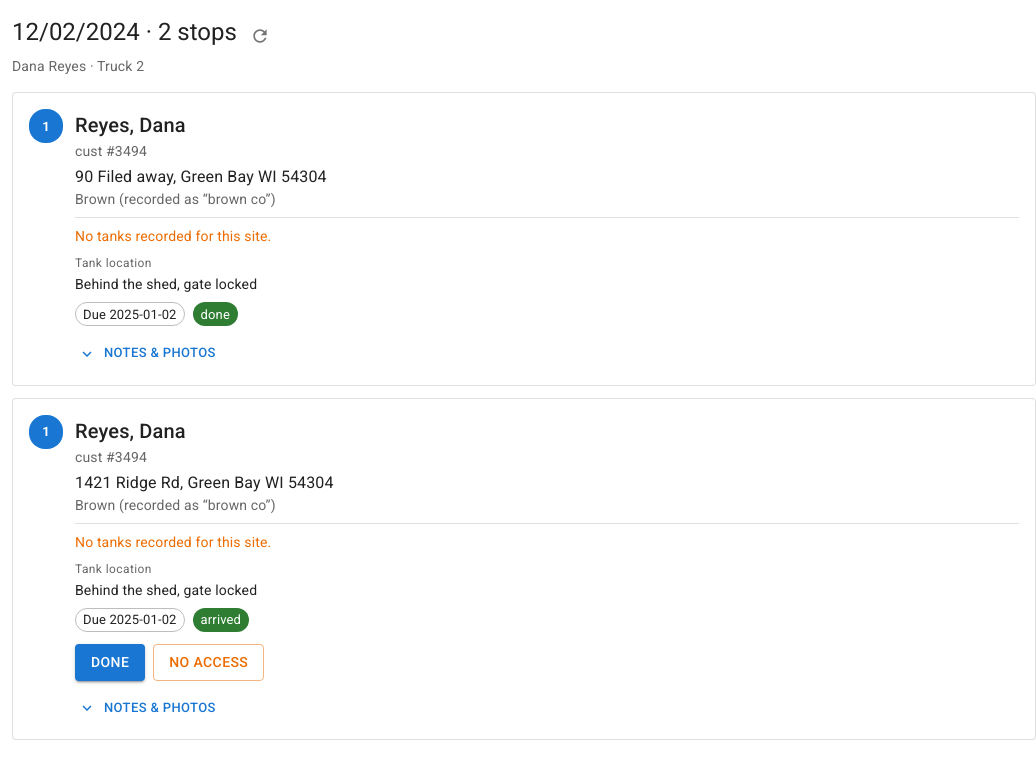
it: T-DRV-06d: the day closing under the last stop › a 404 after the last report closes the day on the spot, list still readable
Expected: the text "1421 Ridge Rd, Green Bay WI 54304" is shown, [75,473,334,492]
What coordinates should you click on to do the following:
click the button "No access"
I would click on:
 (209, 662)
Its box is [153,644,264,681].
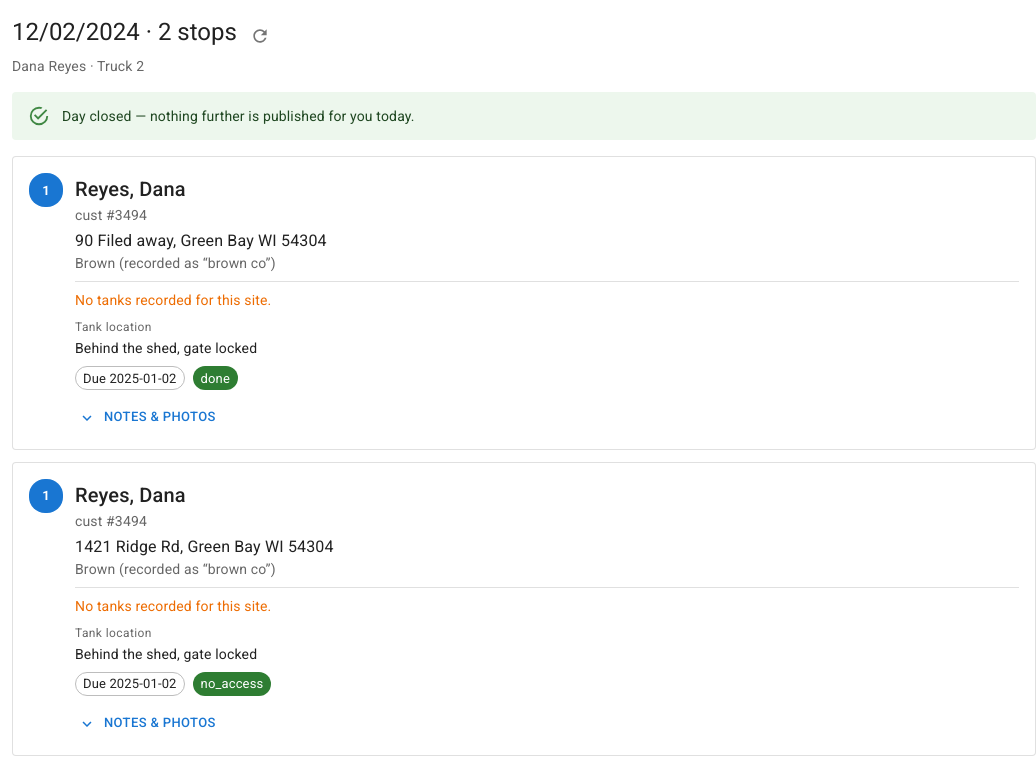
Expected: the text "1421 Ridge Rd, Green Bay WI 54304" is shown, [75,537,334,556]
Expected: the message with test id "day-closed" shows "Day closed", [62,108,415,124]
Expected: the text "no_access" is shown, [201,676,263,691]
